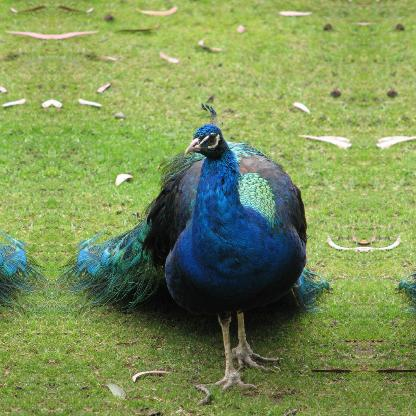Bird: (53, 100, 327, 396)
